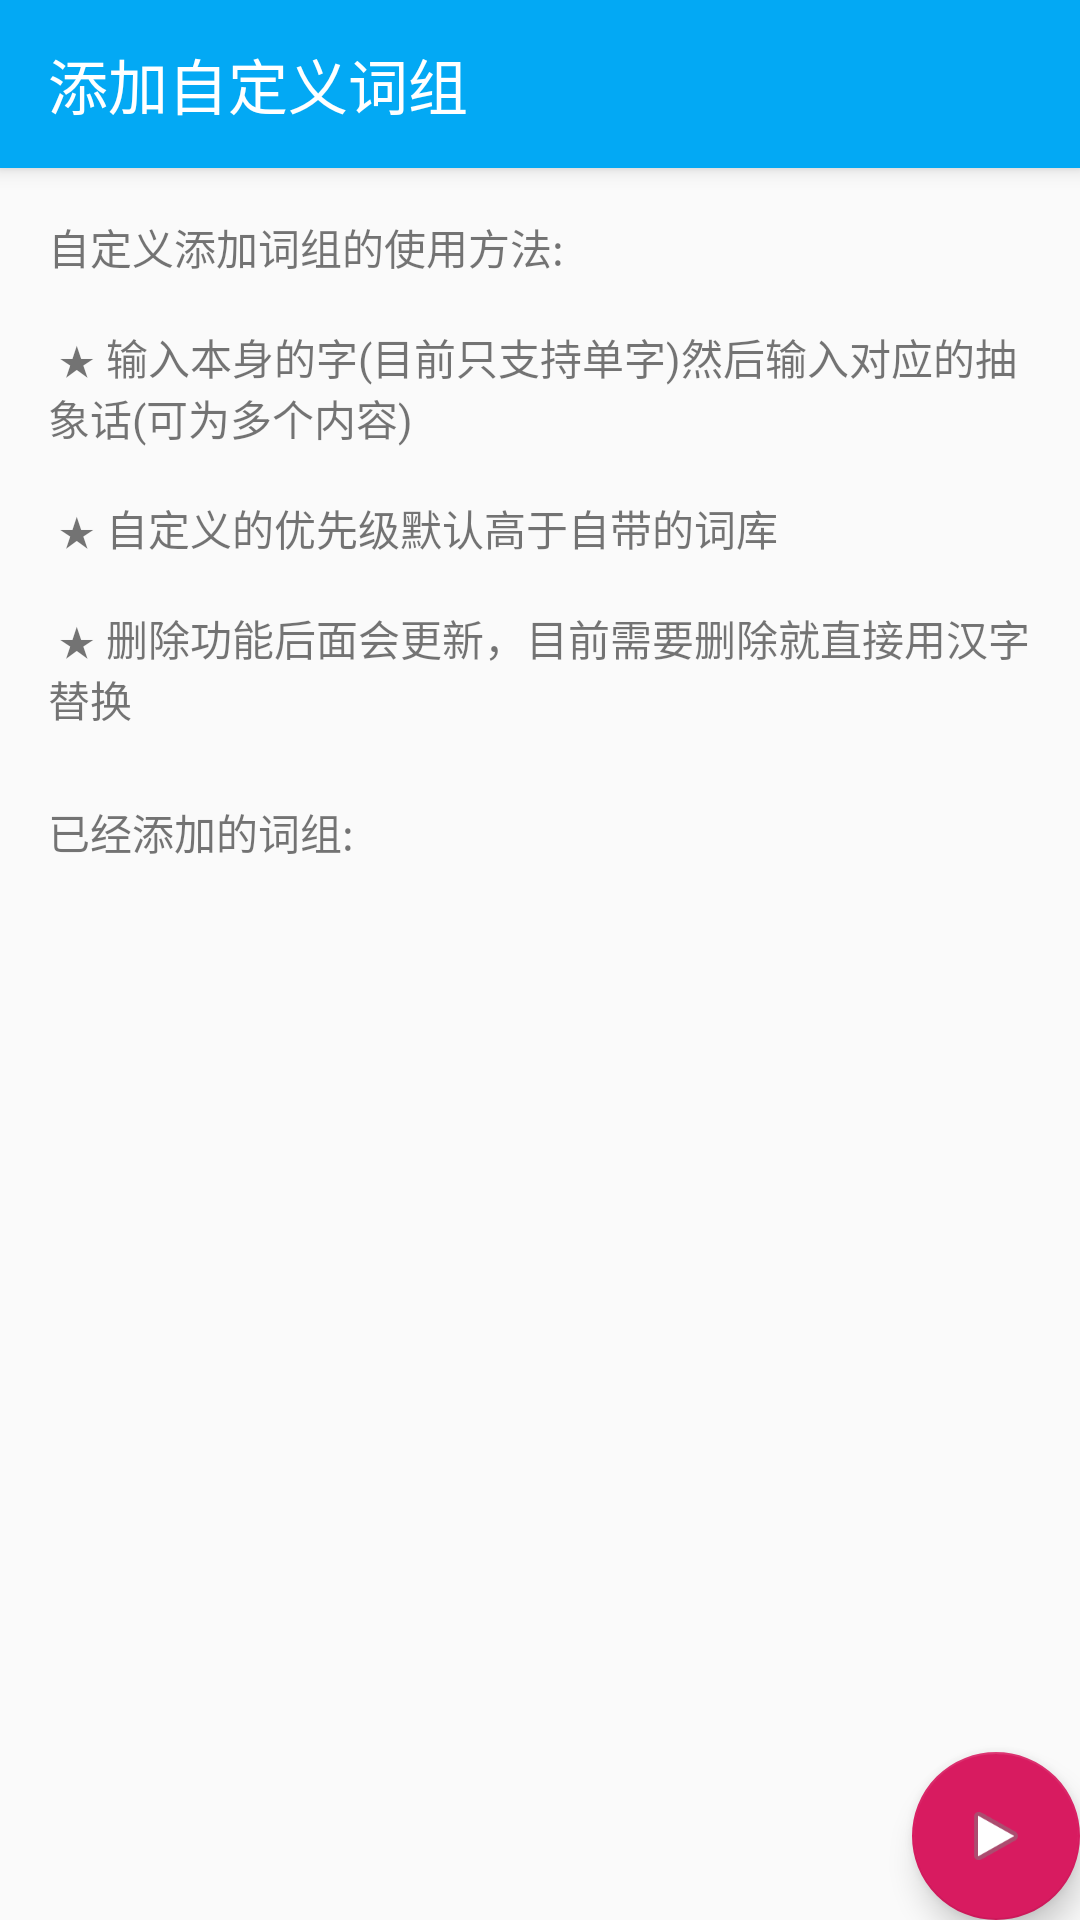

Point at icon controls on the screen. Image size 1080px×1920px, points as (x,y).
play: (996,1836)
